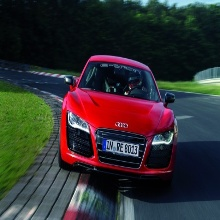no damage: (59, 53, 178, 183)
